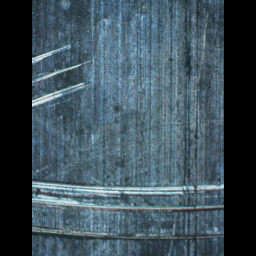d: (32, 173, 224, 243), (32, 30, 97, 115)
